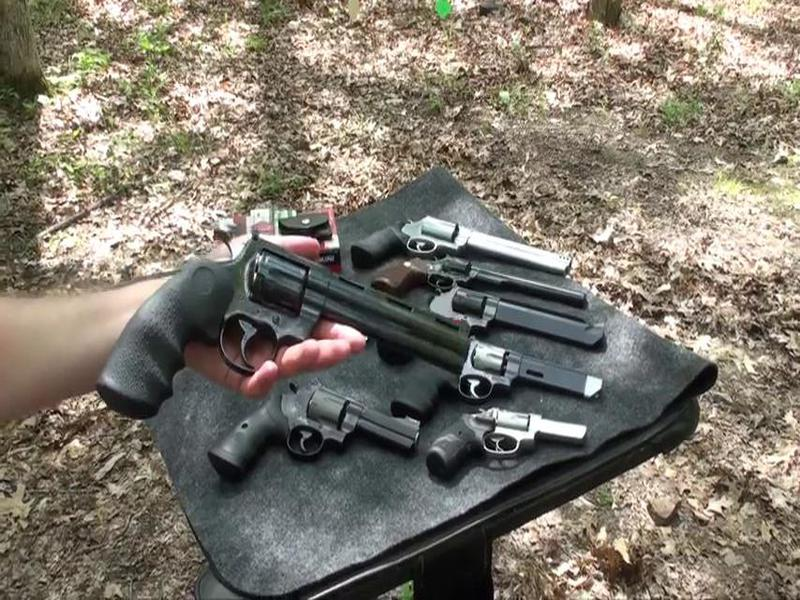Revolver: (146, 221, 480, 399)
